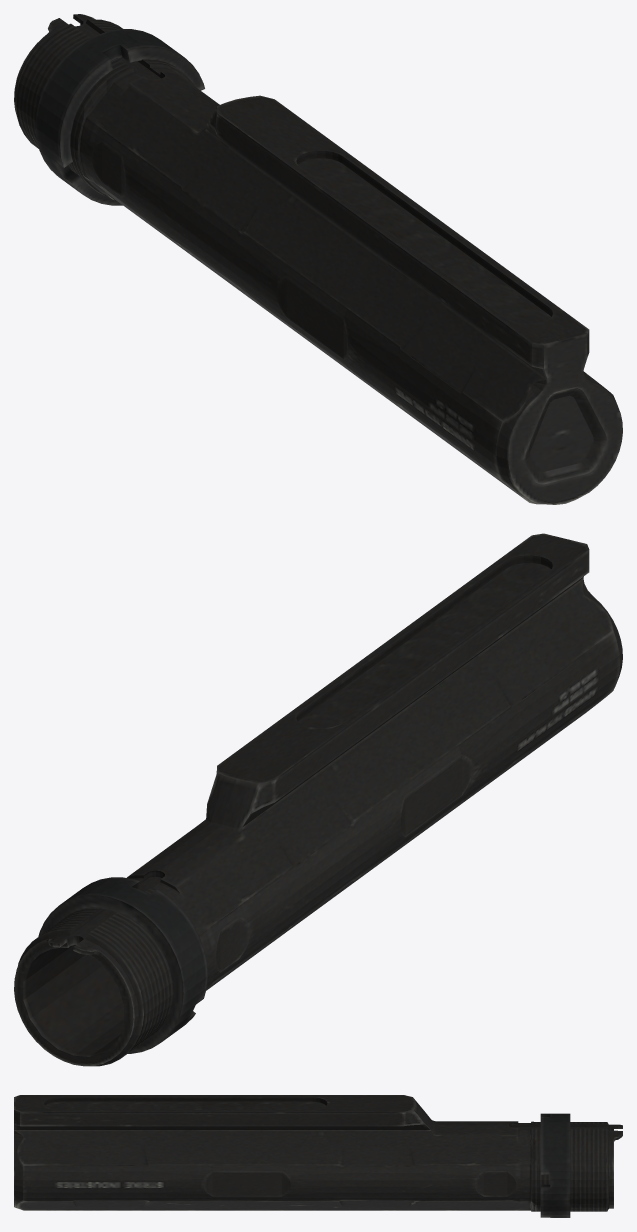
3 renders of one model, top to bottom at view 1: azimuth 30°, elevation 25°; view 2: azimuth 150°, elevation 25°; view 3: azimuth 270°, elevation 25°, orthographic. The views are drawn at different scales.
Parts seen in each view (by area): view 1: TW_5c793fb92e221644f31bfb64_PZ_Import; view 2: TW_5c793fb92e221644f31bfb64_PZ_Import; view 3: TW_5c793fb92e221644f31bfb64_PZ_Import.
Part boxes in pixels (box(x1,y1,x2,y2)): TW_5c793fb92e221644f31bfb64_PZ_Import: box(14, 14, 622, 504); TW_5c793fb92e221644f31bfb64_PZ_Import: box(14, 533, 622, 1066); TW_5c793fb92e221644f31bfb64_PZ_Import: box(14, 1095, 622, 1217).
Bounding box in the file's own units: 0.02 × 0.1167 × 0.0231.
Materials: 1 (1 with a texture image).
